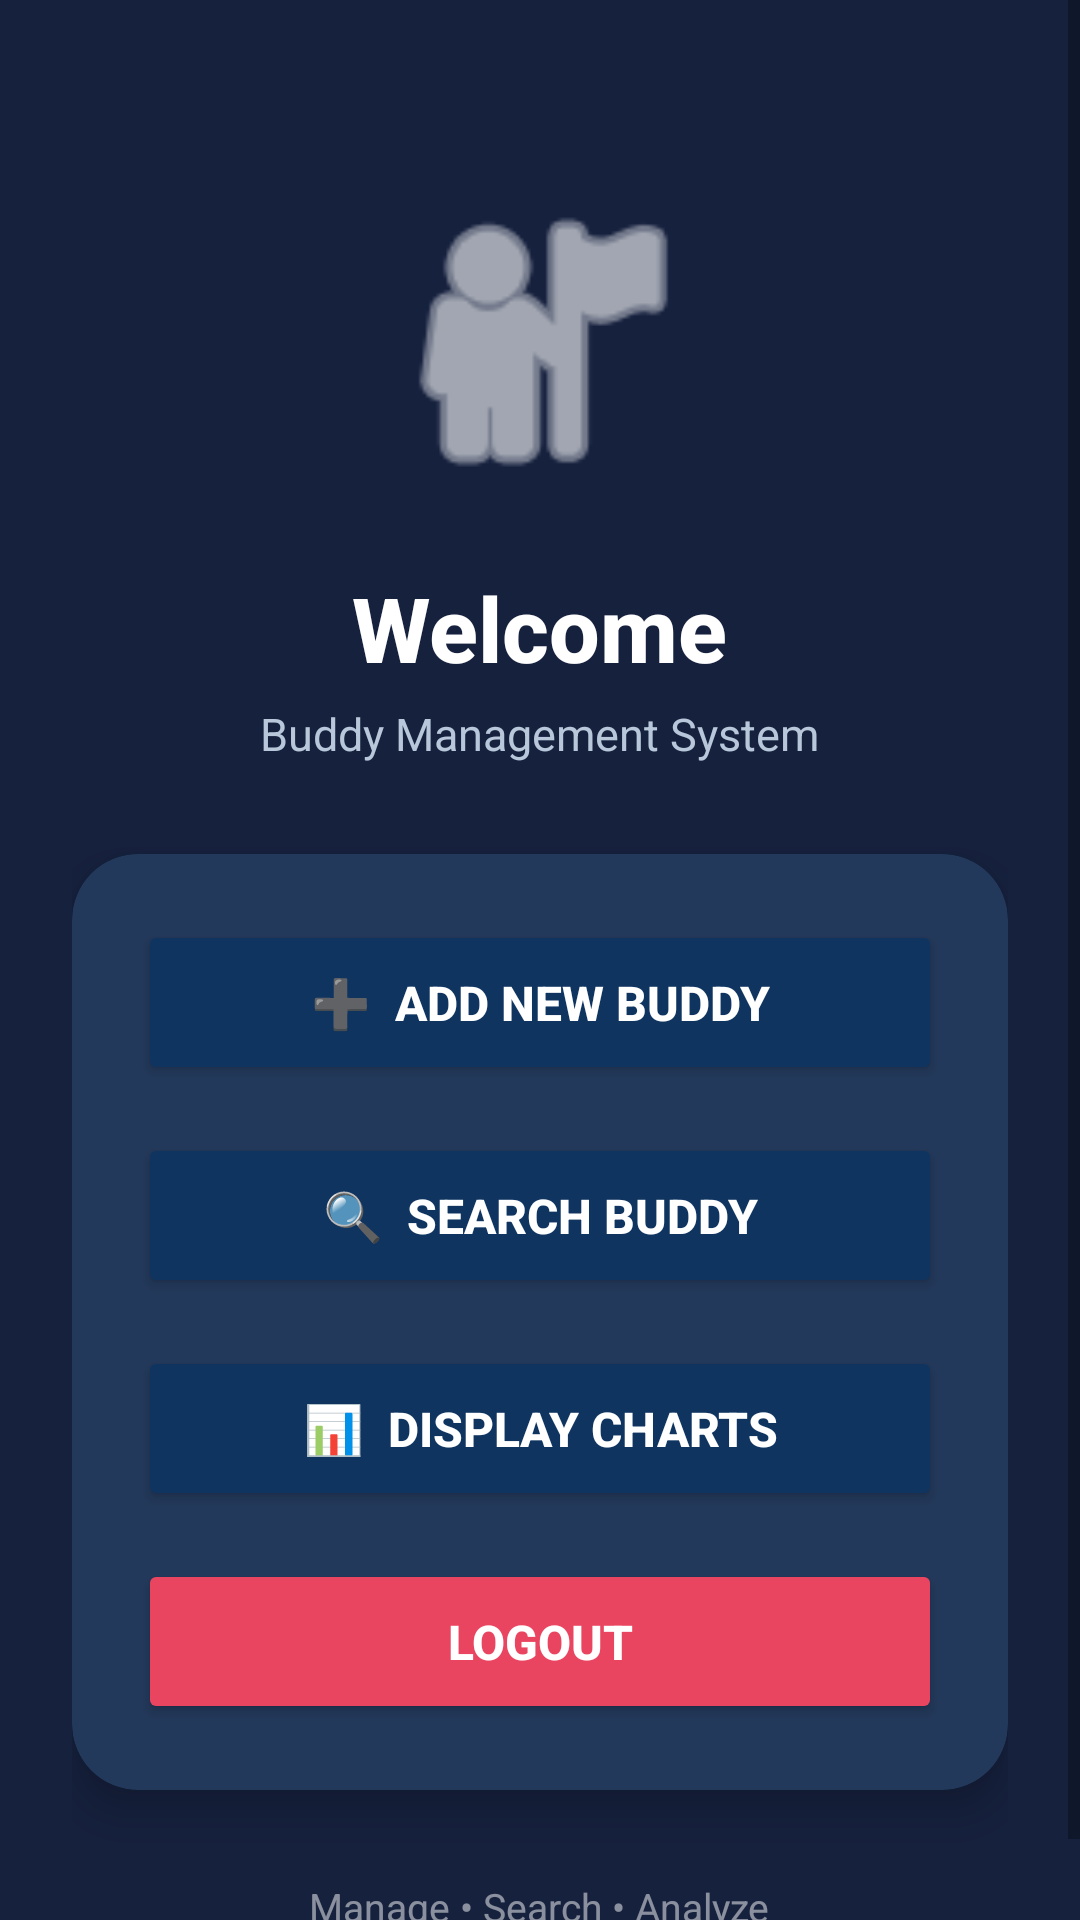

Icon click points for this 1080w x 1920h phone screenshot, format point (x, y):
myplaces: point (543, 342)
